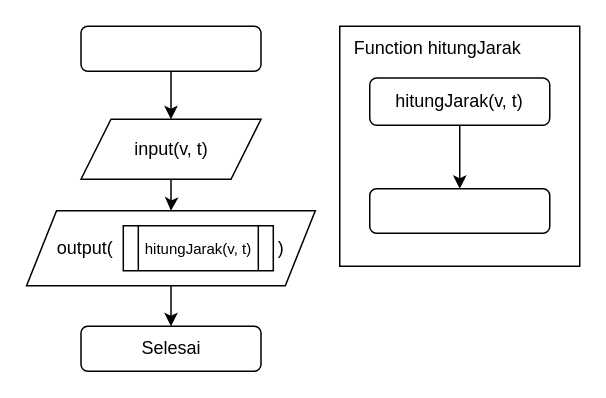
The diagram is 606 pixels wide and 398 high, and some of its shapes have lost their labels. The shapes that lost their labels are listed below. From the top down, each one's centre as x and y in pixels, then its label:
pixel 170 48: Mulai
pixel 459 210: return (v * t)
